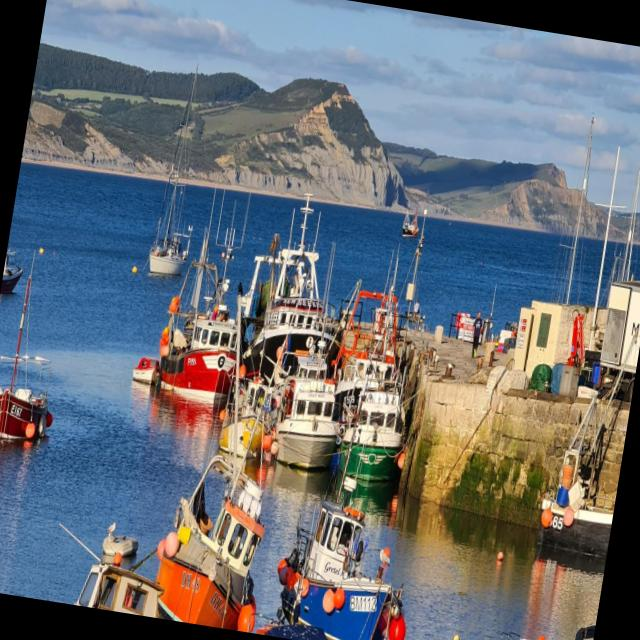boat: (138, 402, 289, 634), (124, 195, 264, 438), (265, 457, 428, 640), (245, 306, 361, 481), (0, 268, 82, 476), (334, 330, 426, 506)
